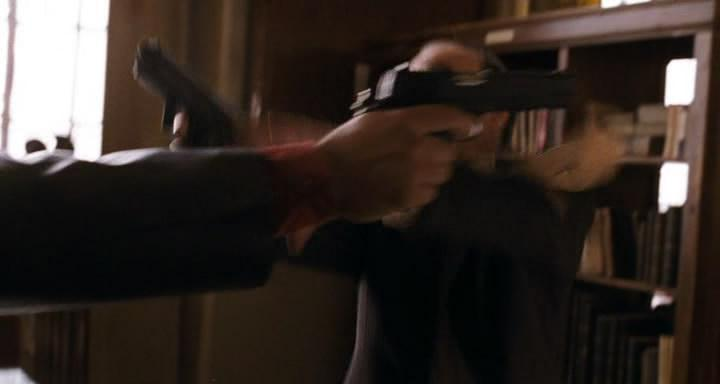gun: (334, 17, 585, 178), (113, 20, 266, 190)
